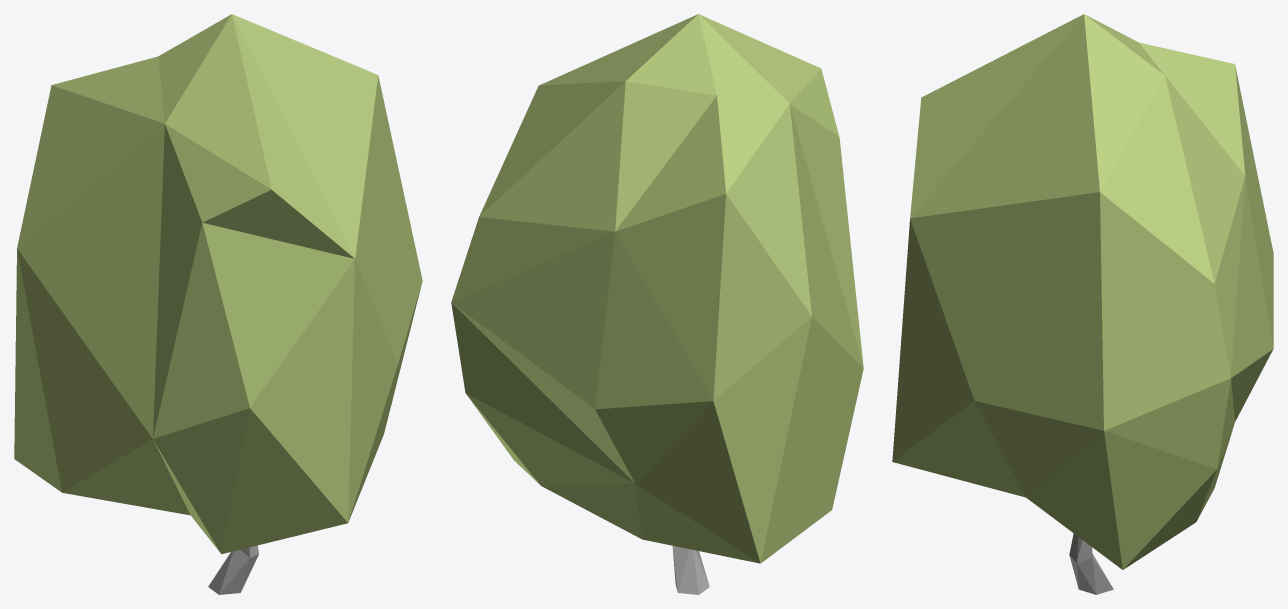
File: AesculusHippocastanum.glb
3 views of the same model, side by side, from view 1: azimuth 30°, elevation 25°; view 2: azimuth 150°, elevation 25°; view 3: azimuth 270°, elevation 25° (orthographic).
Parts seen in each view (by area): view 1: Crown, Trunk; view 2: Crown, Trunk; view 3: Crown, Trunk.
Boxes of the visible parts, x1,y1,x2,y2 form: Crown: (14, 14, 422, 554); Trunk: (208, 545, 258, 594); Crown: (451, 14, 863, 563); Trunk: (672, 546, 709, 594); Crown: (892, 14, 1273, 569); Trunk: (1069, 533, 1113, 594).
Size of the model in its own units: 13.54 by 20.46 by 12.34.
